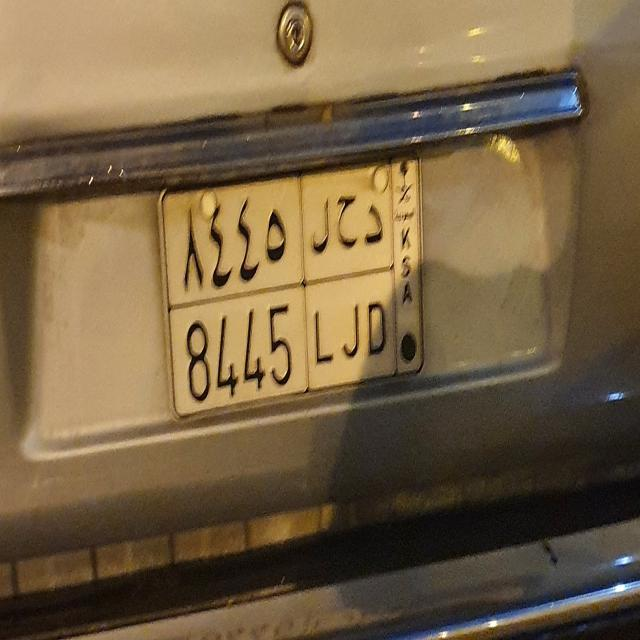license_plate: (154, 148, 428, 426)
